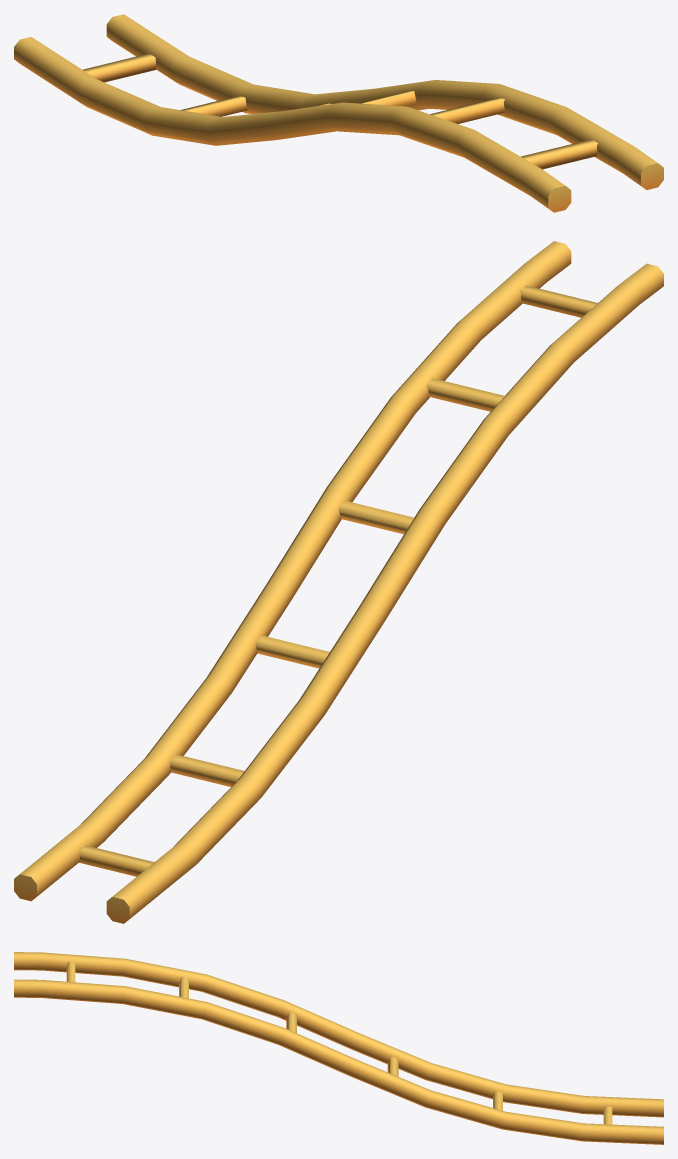
Rendered from coaster-mouse-straight-hill-complete.glb.
The picture shows the model from 3 angles, top to bottom: view 1: azimuth 30°, elevation 25°; view 2: azimuth 150°, elevation 25°; view 3: azimuth 270°, elevation 25°; orthographic projection. The views are drawn at different scales.
Visible parts, largest first — view 1: coaster-mouse-straight-hill-complete; view 2: coaster-mouse-straight-hill-complete; view 3: coaster-mouse-straight-hill-complete.
Part boxes in pixels (left/top/right/bottom): coaster-mouse-straight-hill-complete: left=14, top=14, right=663, bottom=212; coaster-mouse-straight-hill-complete: left=14, top=241, right=663, bottom=923; coaster-mouse-straight-hill-complete: left=14, top=952, right=663, bottom=1144.
Size of the model in its own units: 0.5 by 1.1 by 4.
1 material, 1 textured.
